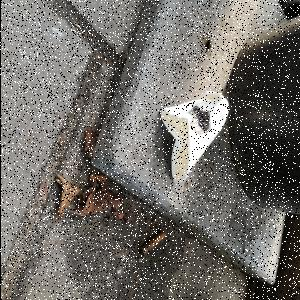Cup: (158, 87, 232, 187)
